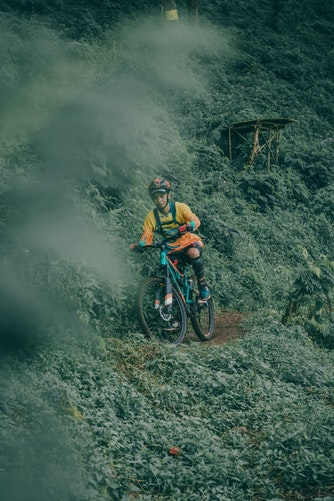helmet: (148, 175, 175, 192)
